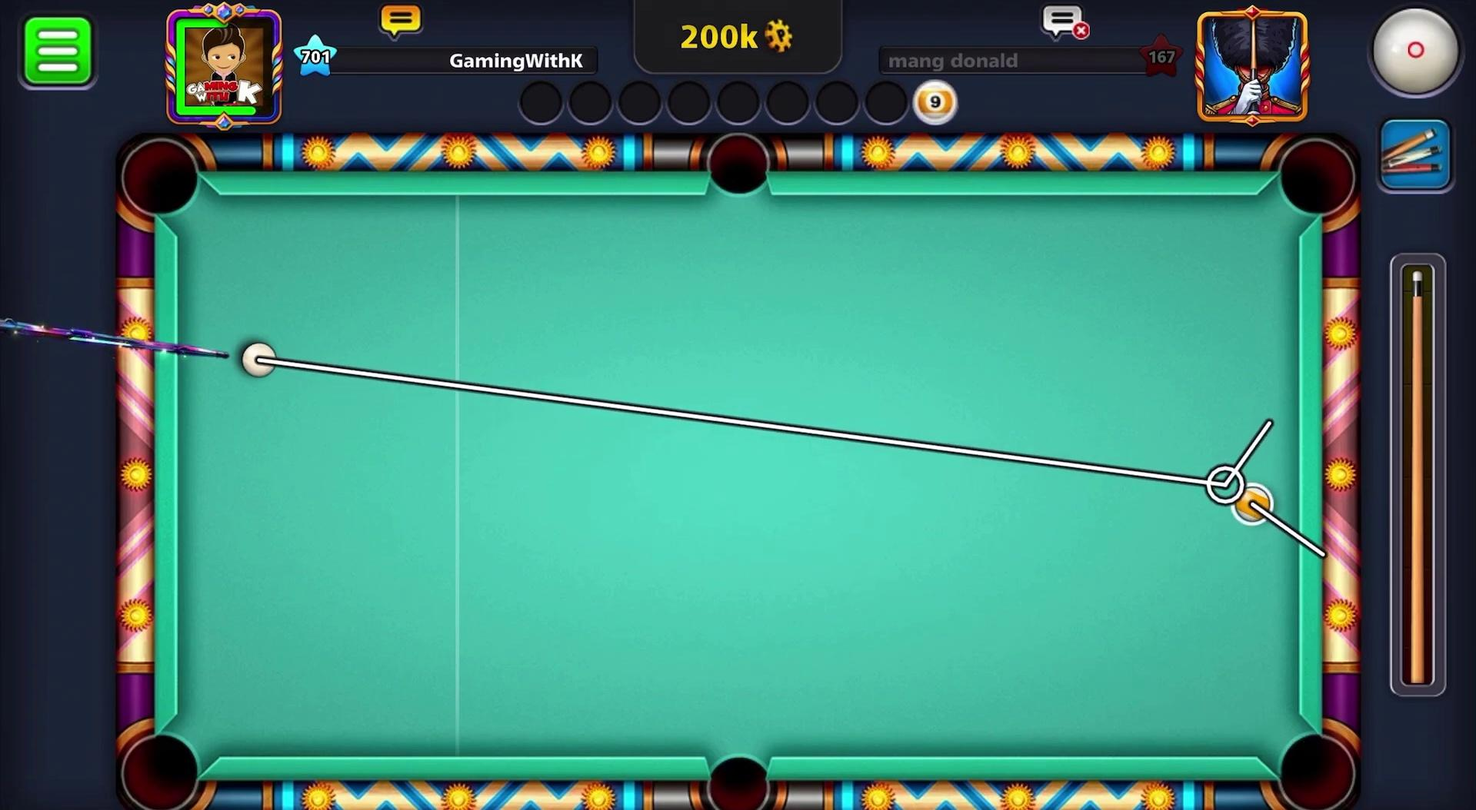Ball: (1228, 478, 1278, 536)
Force: (1387, 254, 1451, 700)
Guideline: (257, 343, 1333, 565)
Hole: (106, 126, 216, 232), (1269, 129, 1366, 230), (110, 719, 212, 809), (1265, 717, 1364, 809), (685, 735, 785, 809), (699, 129, 777, 205)
Play_Area: (187, 194, 1297, 776)
Spin: (1345, 0, 1475, 112)
White: (230, 333, 282, 385)
